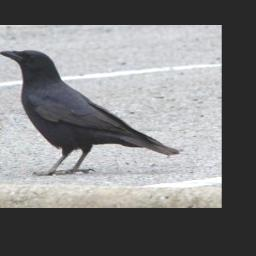Crow: (0, 49, 181, 176)
